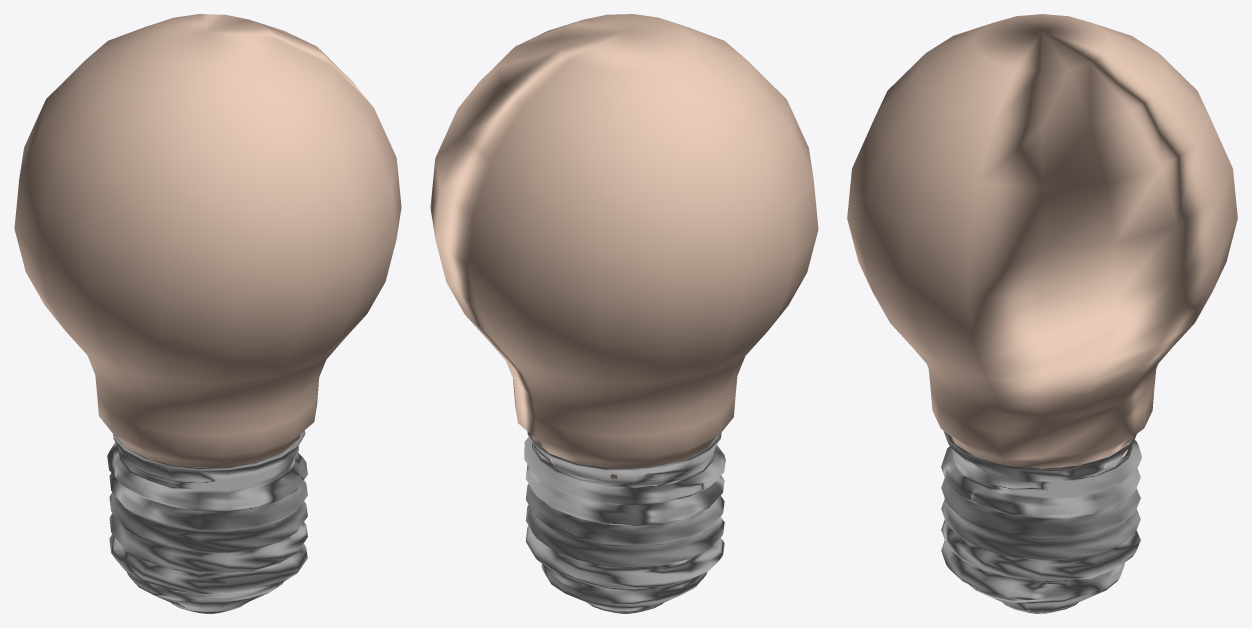
The model's file is lightbulb.fbx.
The picture shows the model from 3 angles, left to right: view 1: azimuth 30°, elevation 25°; view 2: azimuth 150°, elevation 25°; view 3: azimuth 270°, elevation 25°; orthographic projection.
Parts seen in each view (by area): view 1: Bulb; view 2: Bulb; view 3: Bulb.
Part boxes in pixels (x1,y1,x2,y2): Bulb: [14, 14, 401, 613]; Bulb: [430, 14, 818, 613]; Bulb: [847, 14, 1237, 613].
Size of the model in its own units: 169 by 273 by 169.
